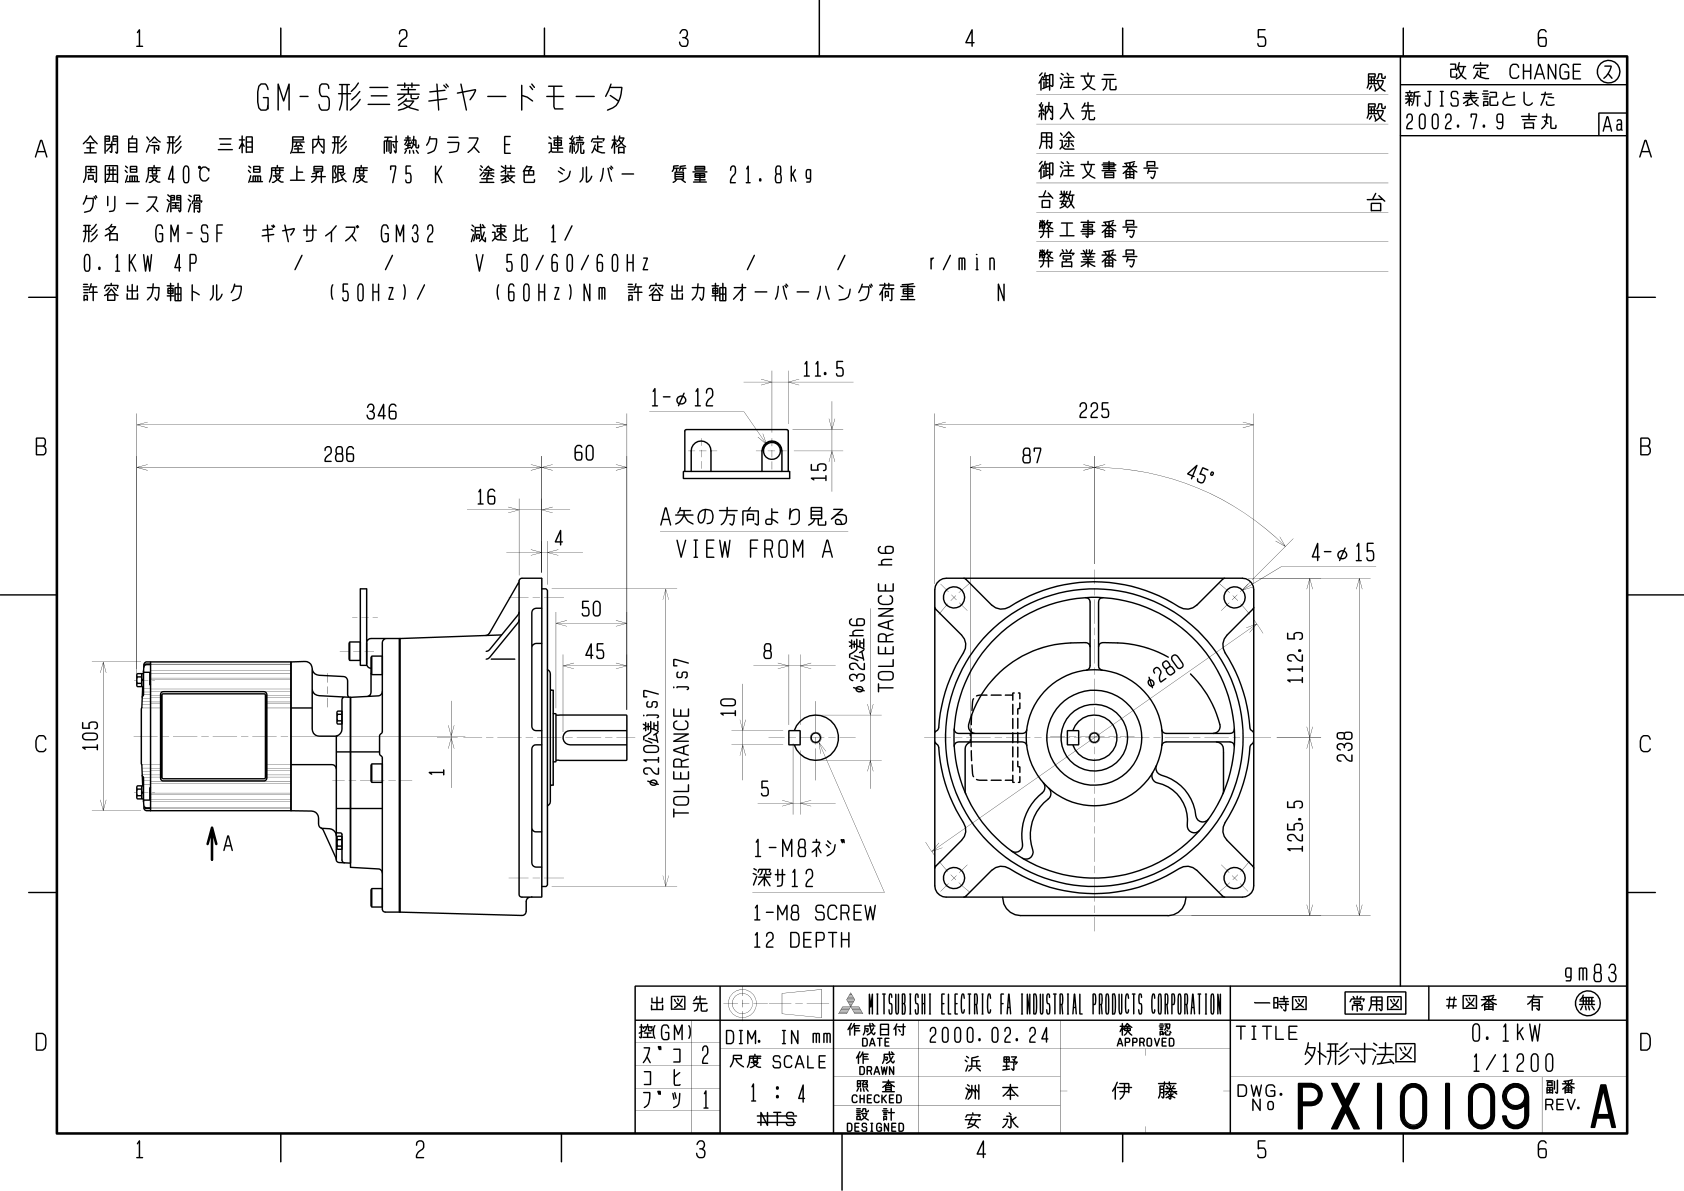GM_S_屋内＿三相_フランジ: (71, 333, 1386, 969)
